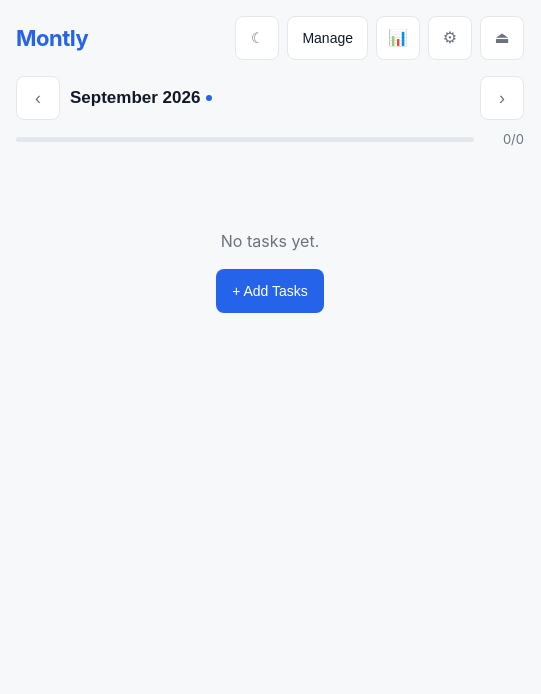
Test: App auth states › shows the SSO button on the login screen after logging out of an SSO session
Click the button named "Sign out" at (502,38), box [480, 16, 524, 60]
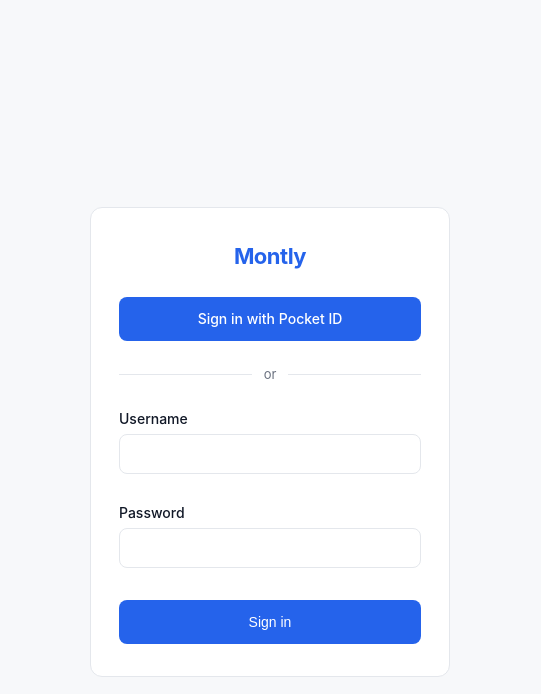
expect the link "Sign in with Pocket ID" is shown: met, box [119, 297, 421, 341]
